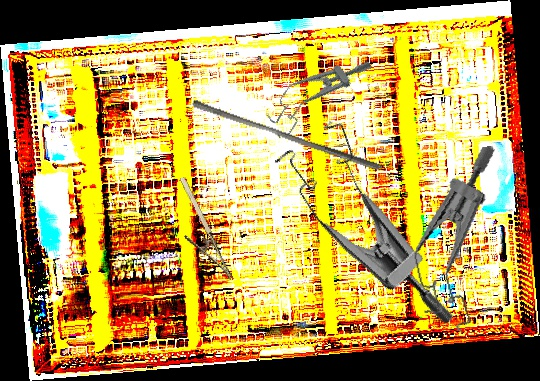Needle Holder: (162, 175, 234, 290)
Pusher: (189, 99, 385, 172)
Speculum: (249, 104, 510, 328), (390, 144, 532, 340), (257, 40, 378, 142)
